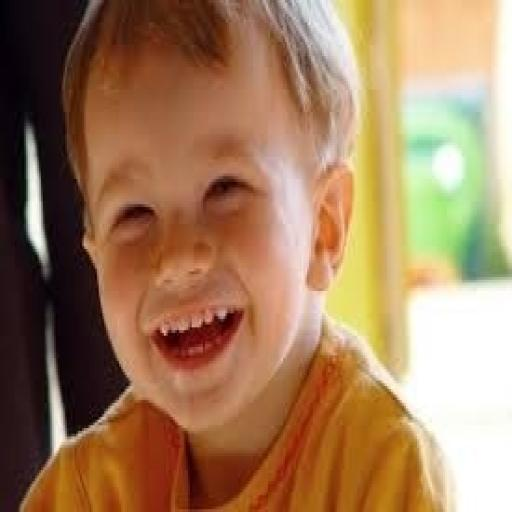laughing: (13, 0, 454, 509)
